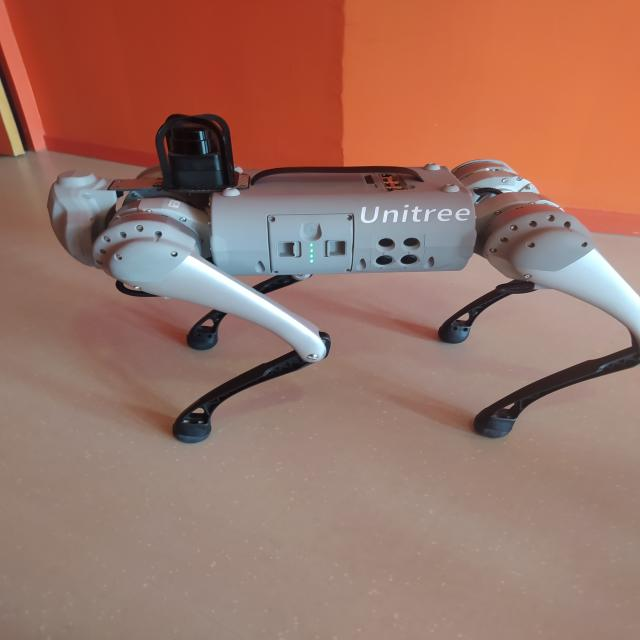unitree-go1-robot: (41, 107, 640, 458)
